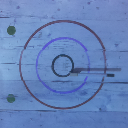Axe Tip: (71, 70, 83, 72)
